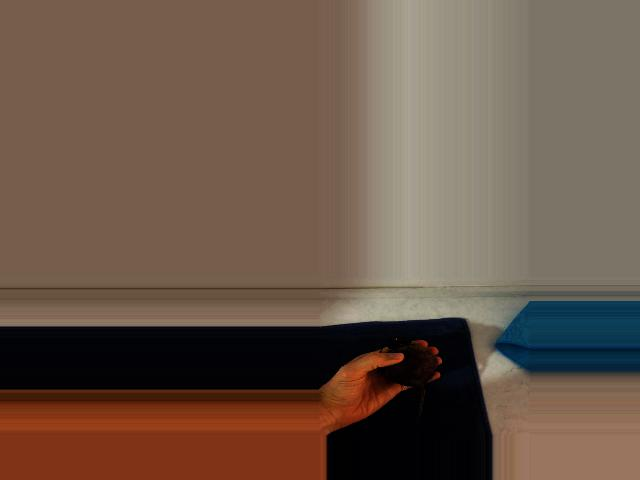beet: (379, 337, 437, 419)
